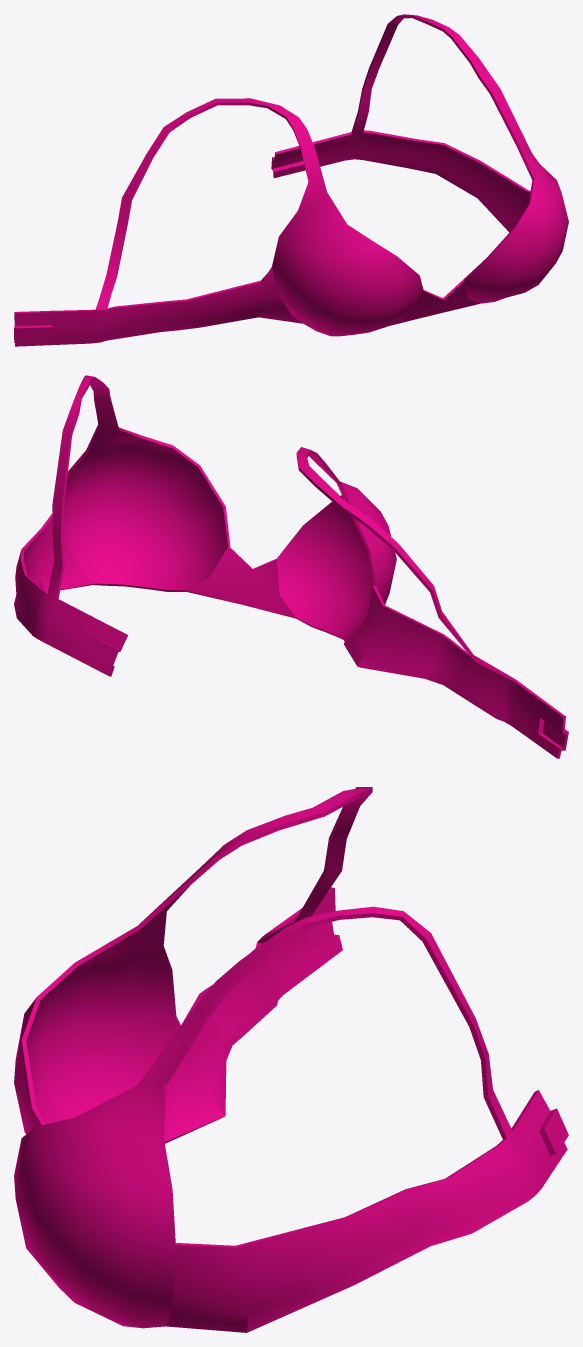
File: bra.glb
The picture shows the model from 3 angles, top to bottom: view 1: azimuth 30°, elevation 25°; view 2: azimuth 150°, elevation 25°; view 3: azimuth 270°, elevation 25°; orthographic projection. The views are drawn at different scales.
Parts seen in each view (by area): view 1: bra; view 2: bra; view 3: bra.
Boxes of the visible parts, x1,y1,x2,y2 form: bra: (14, 14, 568, 346); bra: (14, 375, 568, 758); bra: (14, 787, 568, 1332).
Size of the model in its own units: 0.5868 by 0.2618 by 0.3376.
